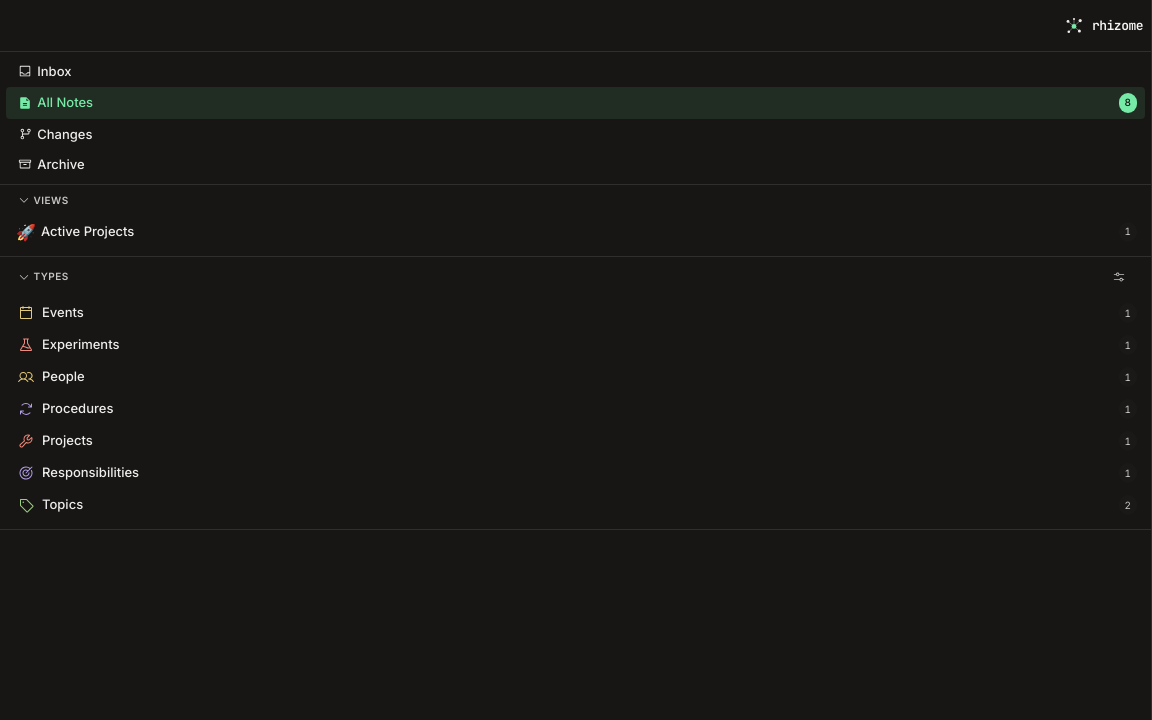
Test: Sidebar › view row actions › starts inline rename when the view row is double-clicked
Double-click the button "🚀 Active Projects 1": (88, 231) [6, 216, 1145, 248]
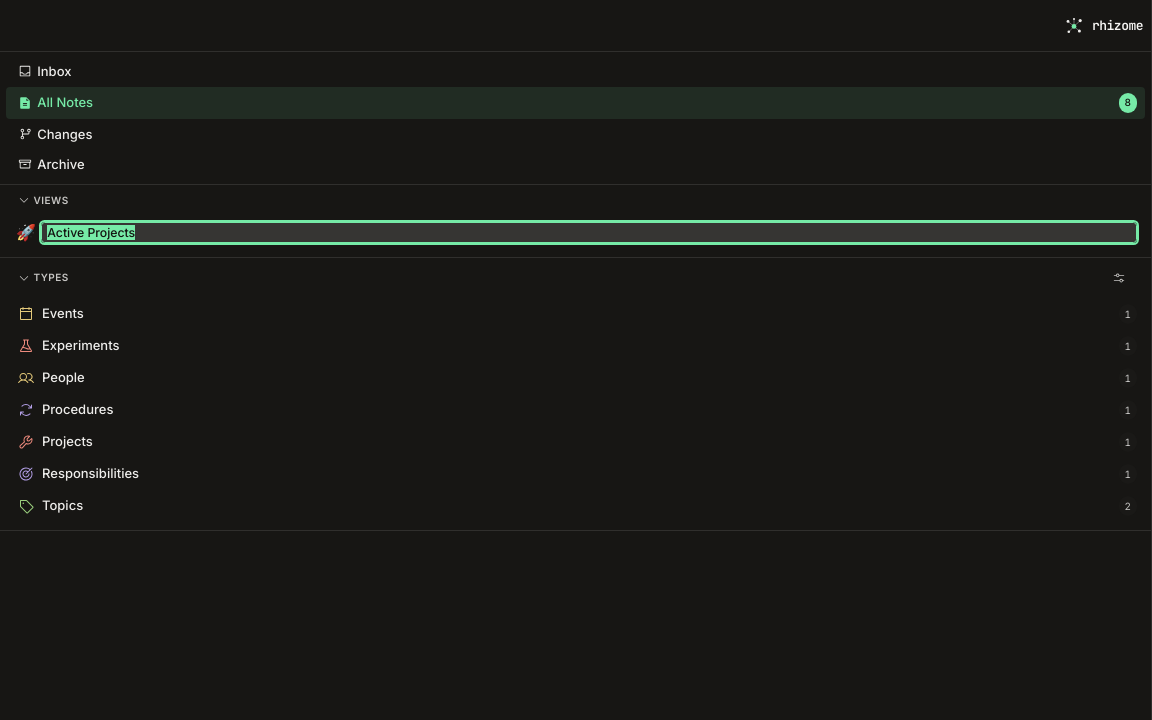
Check: the field named "View name" holds "Active Projects", box [41, 222, 1137, 243]
